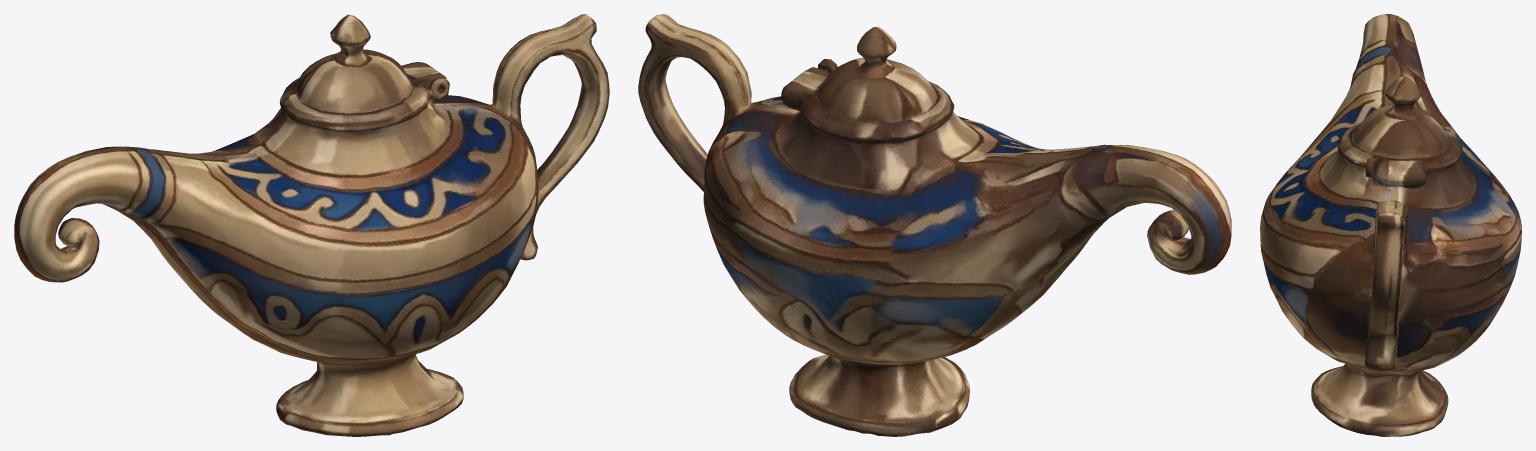
File: lamp.glb
3 renders of one model, left to right at view 1: azimuth 30°, elevation 25°; view 2: azimuth 150°, elevation 25°; view 3: azimuth 270°, elevation 25°, orthographic. The views are drawn at different scales.
Parts seen in each view (by area): view 1: geometry_0; view 2: geometry_0; view 3: geometry_0.
Boxes of the visible parts, x1=… form: geometry_0: x1=14, y1=14, x2=609, y2=436; geometry_0: x1=638, y1=14, x2=1231, y2=436; geometry_0: x1=1260, y1=14, x2=1521, y2=436.
Bounding box in the file's own units: 0.935 × 0.5891 × 0.4255.
Materials: 1 (1 with a texture image).
